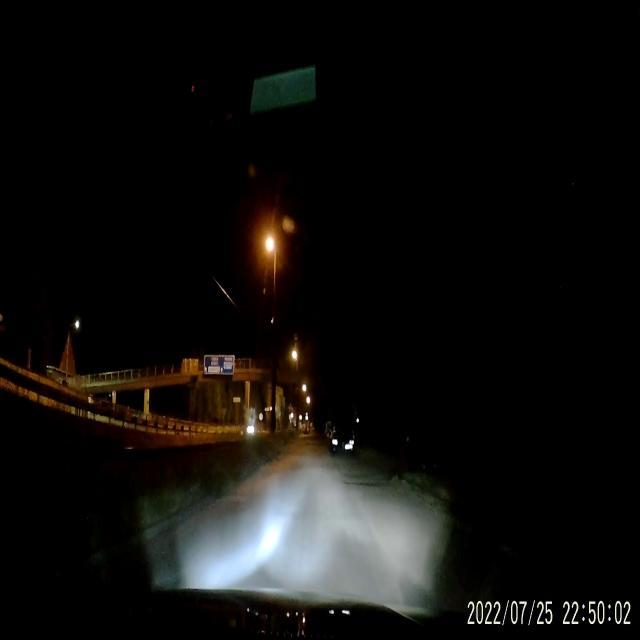Pothole: (341, 478, 389, 491), (341, 471, 386, 481)
